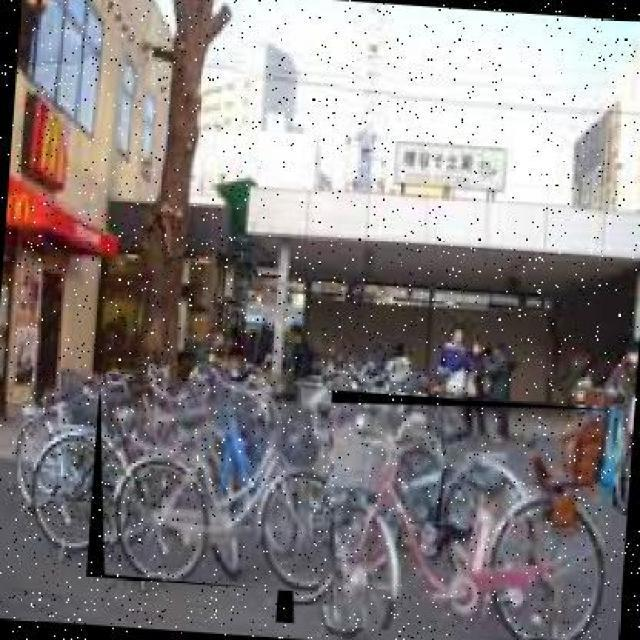bicycle: (275, 389, 621, 640), (85, 373, 333, 596)
